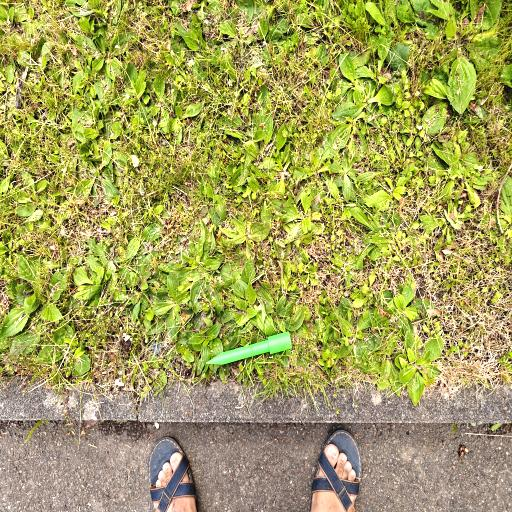Probe-Detection: (207, 332, 291, 365)
